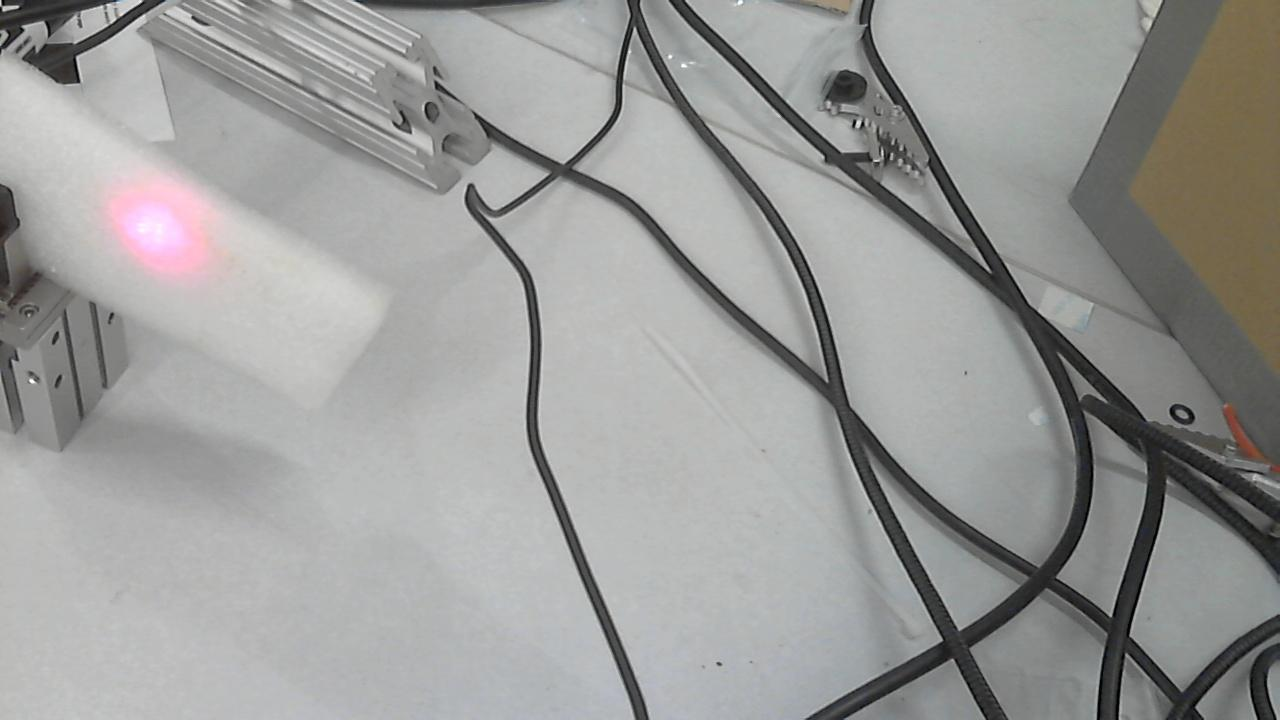Object white rectangular foam block - Material Foam - Color white - Pdfname LpbA: (94, 174, 232, 292)
